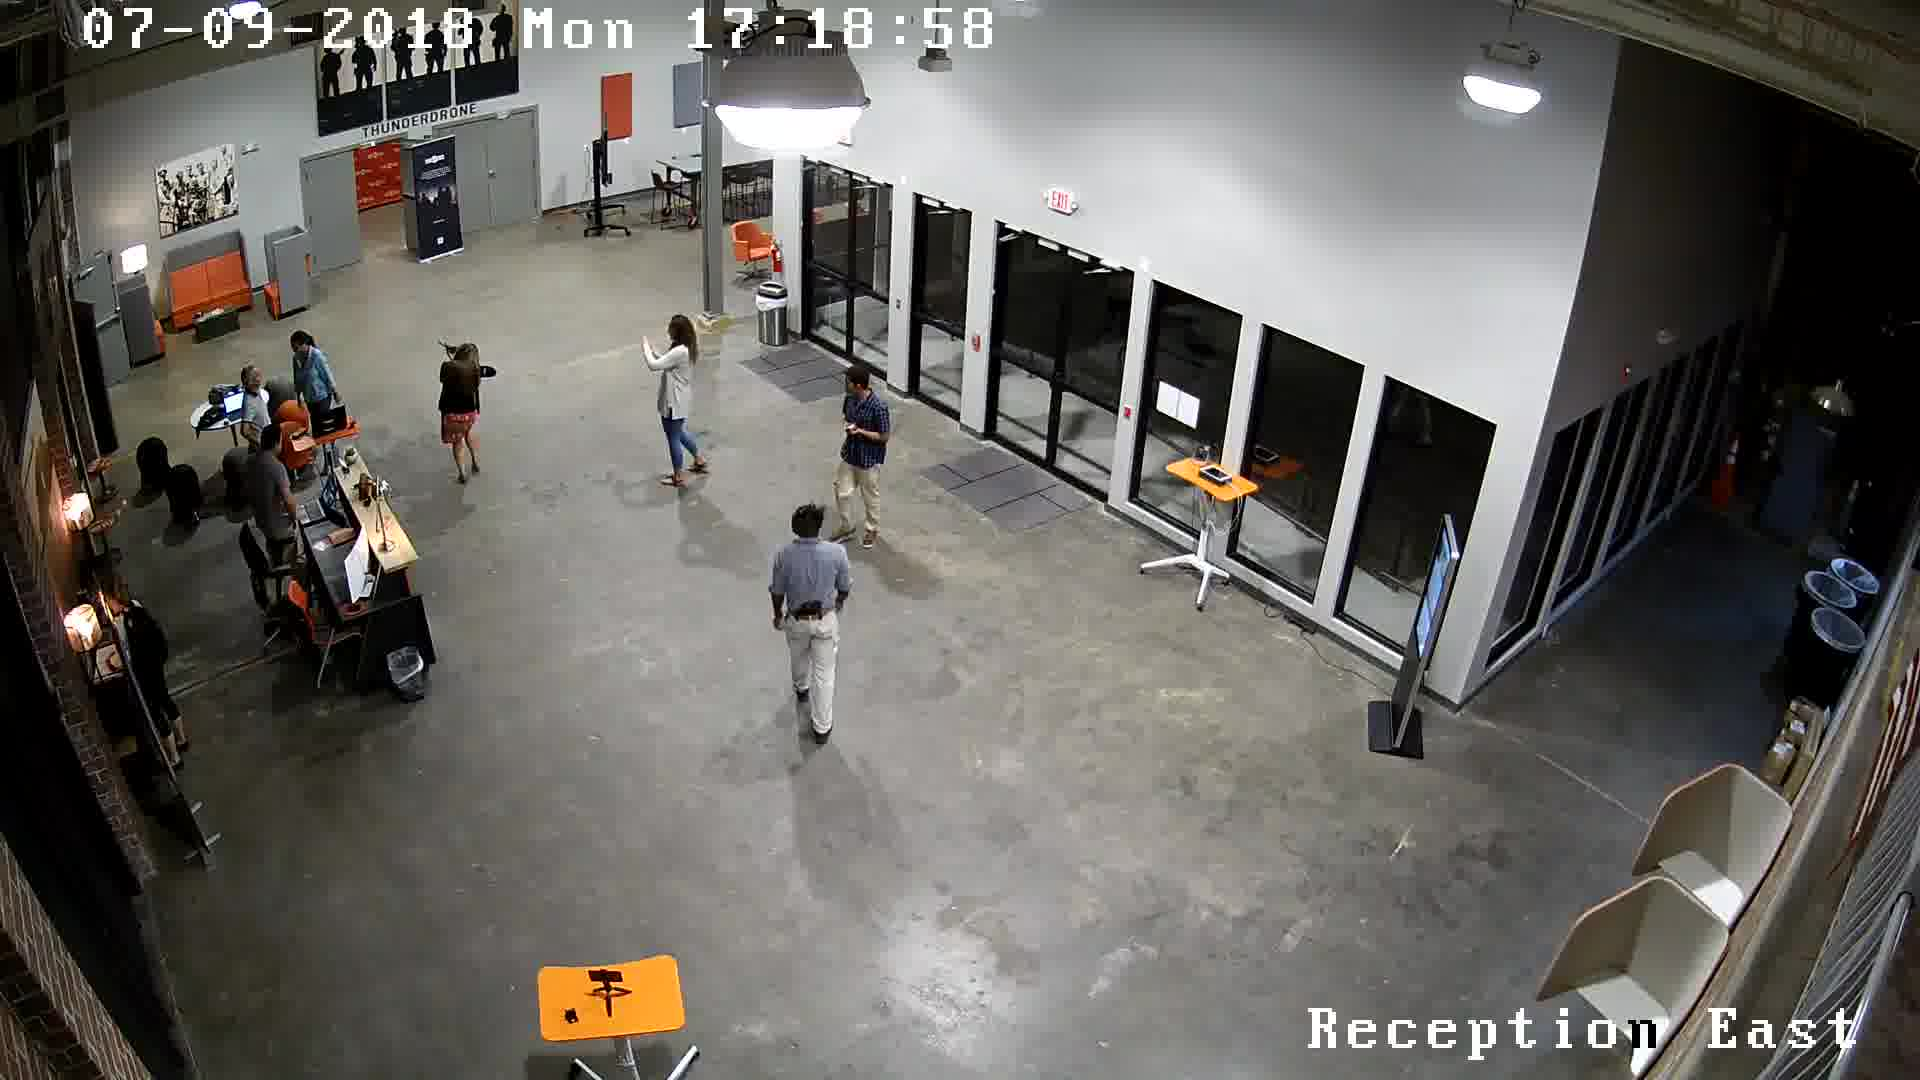pistol: (786, 589, 829, 632)
